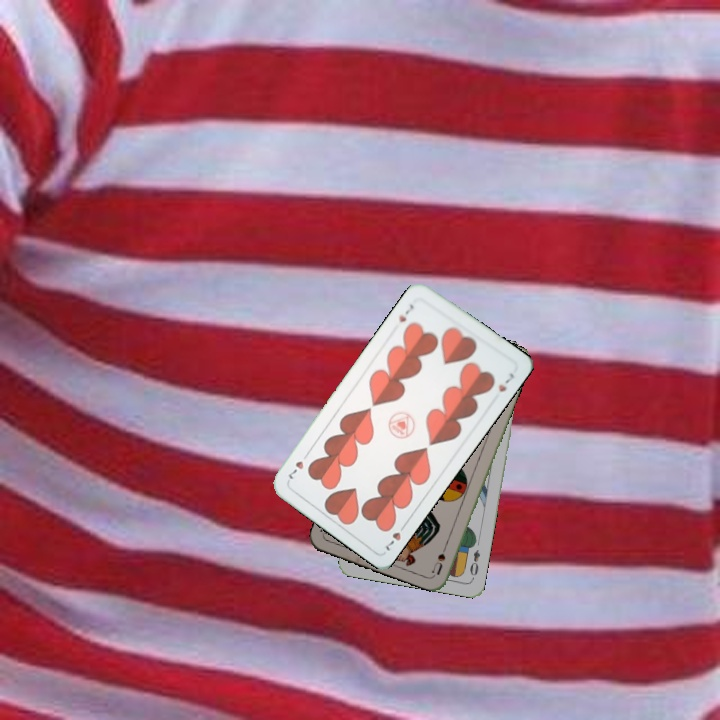EO: (466, 546, 483, 582)
H7: (382, 519, 409, 554), (395, 300, 417, 325)
SU: (428, 537, 451, 577)
